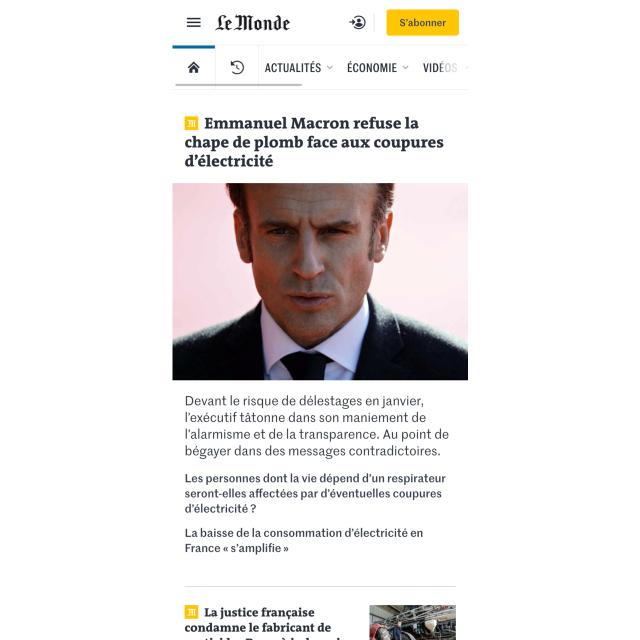logo: (215, 9, 292, 37)
navigation: (262, 56, 472, 79), (183, 14, 202, 30)
